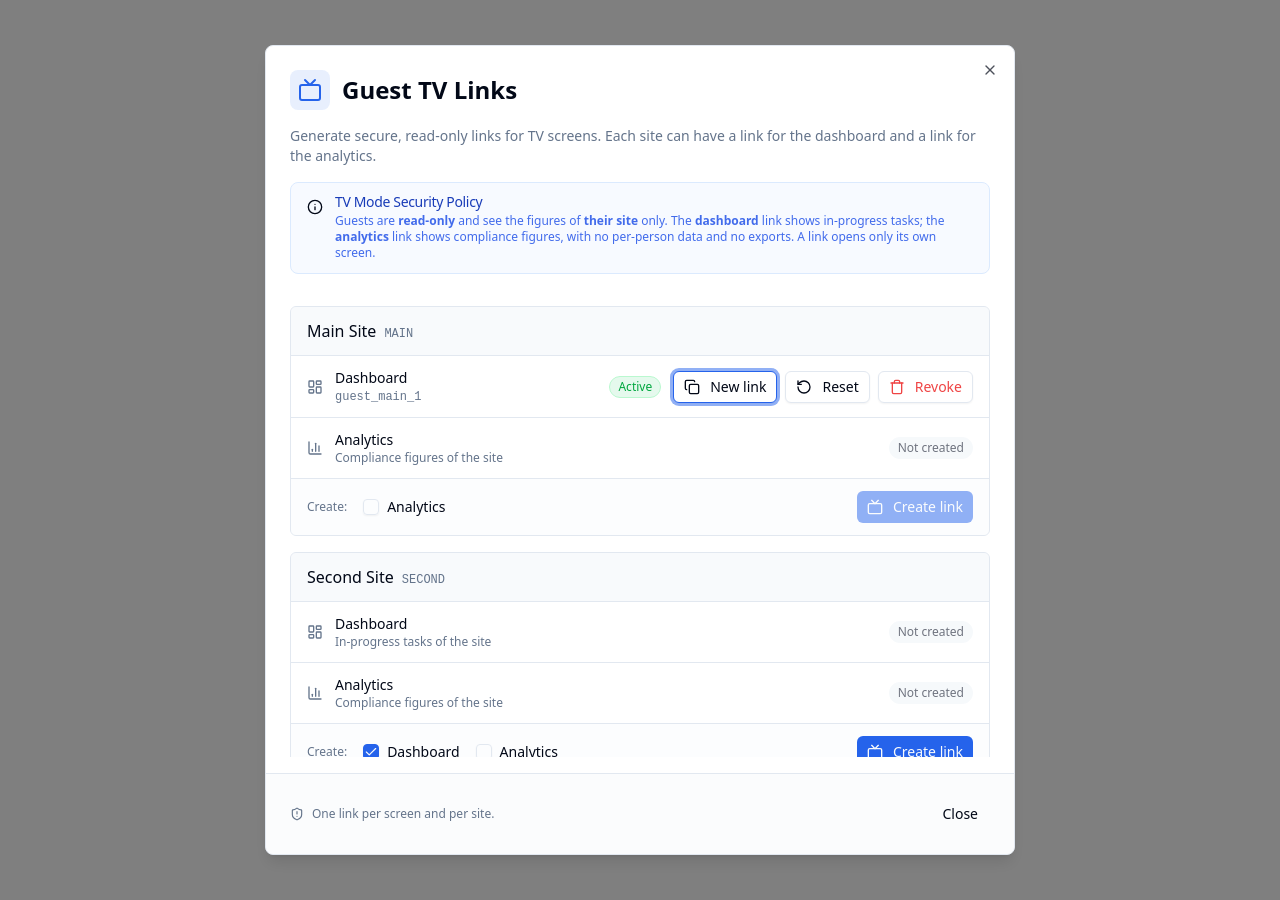
GuestLinkDialog › one-time links › signs the screen out first when the access is reset, then offers a fresh link
The image size is (1280, 900).
Click the button with aria-label "Reset Dashboard access for Main Site" at (828, 386), box [786,370,870,402]
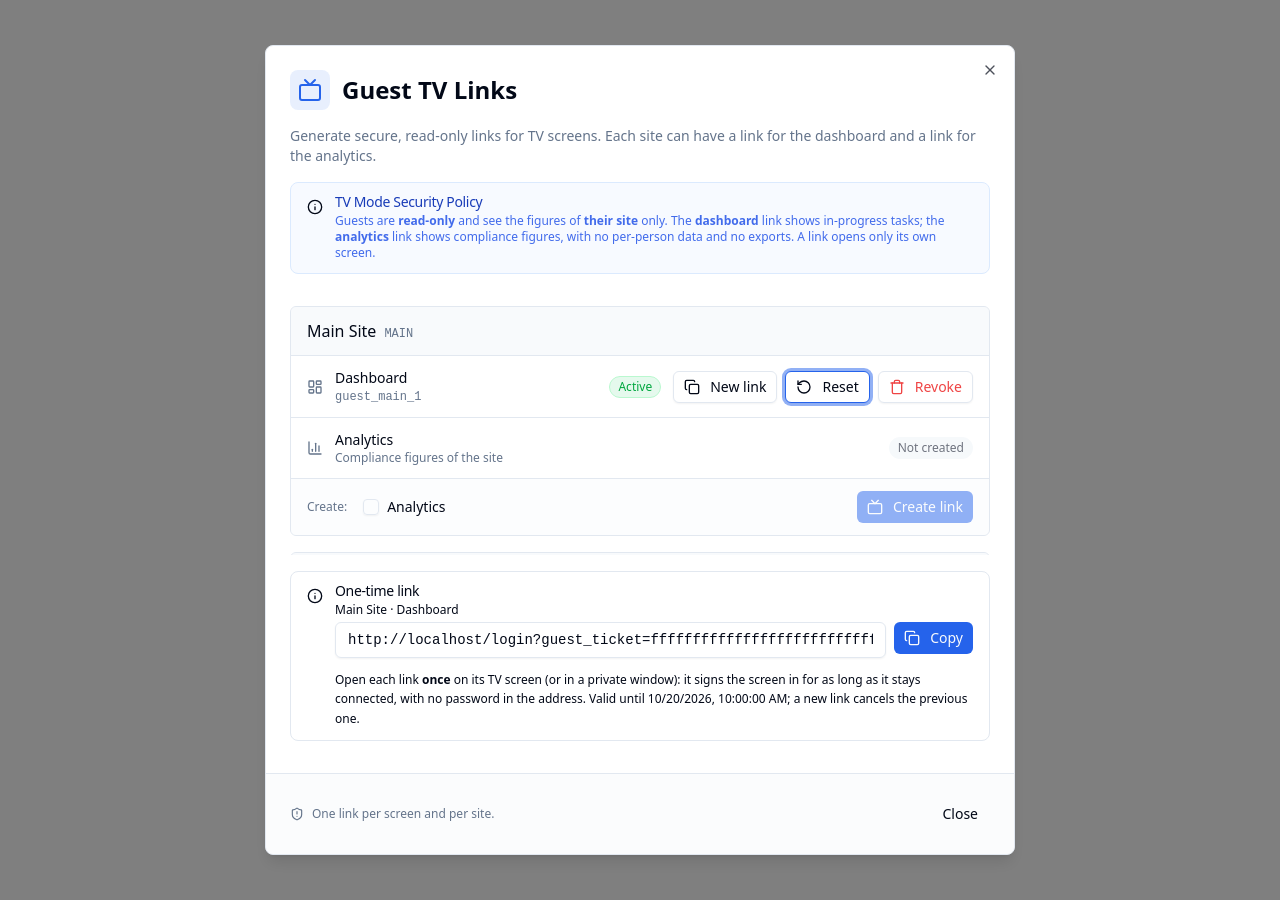
Result: the field named "One-time TV link, Main Site Dashboard" is shown at [335,622,886,658]
